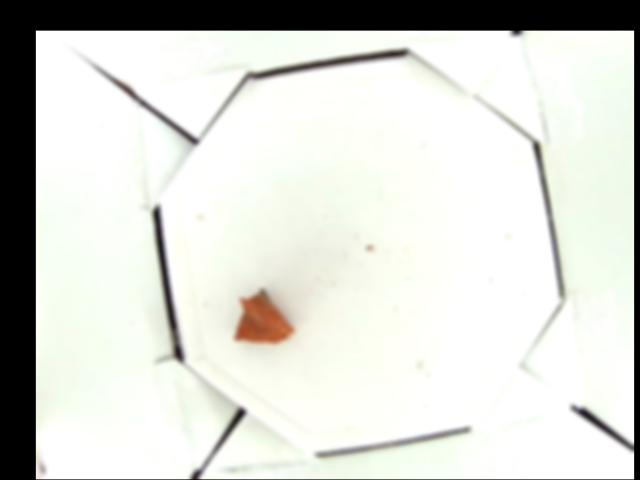Brisk: (234, 287, 296, 343)
